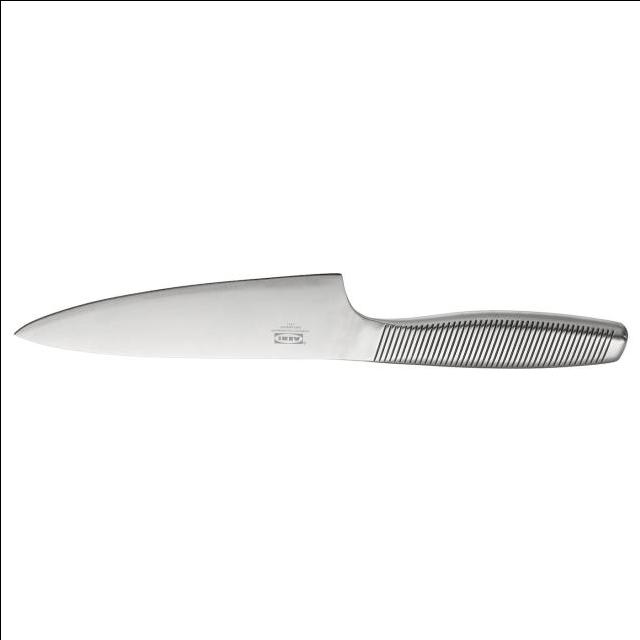knife: (12, 272, 633, 377)
